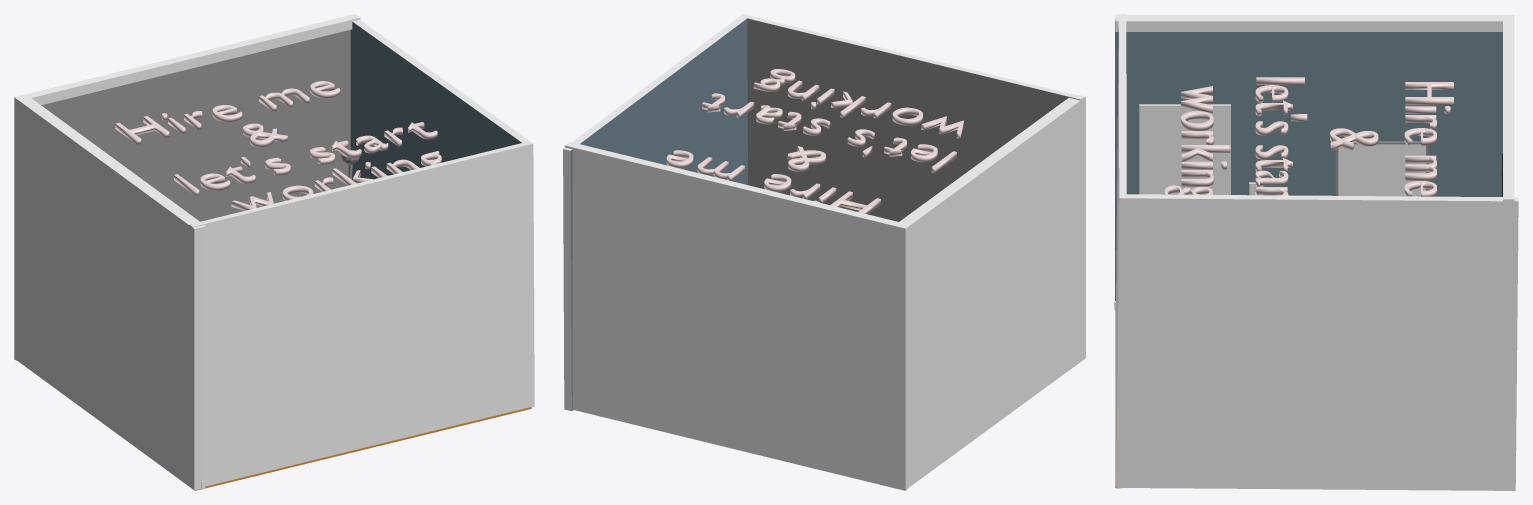
Rendered from myroom.obj.
The picture shows the model from 3 angles, left to right: view 1: azimuth 30°, elevation 25°; view 2: azimuth 150°, elevation 25°; view 3: azimuth 270°, elevation 25°; orthographic projection. The views are drawn at different scales.
Parts seen in each view (by area): view 1: group2134886970, group1987275120, Text, group609791403, group2124208635; view 2: group1987275120, group2134886970, Text, group609791403; view 3: group2134886970, group1987275120, Text, group609791403, group1871896990, group532662748.
Boxes of the visible parts, <box> form: group2134886970: <box>189,19,534,486</box>; group1987275120: <box>14,14,357,490</box>; Text: <box>115,81,441,210</box>; group609791403: <box>25,16,360,236</box>; group2124208635: <box>194,407,531,490</box>; group1987275120: <box>564,95,1085,490</box>; group2134886970: <box>563,14,1084,411</box>; Text: <box>666,69,963,214</box>; group609791403: <box>568,94,1077,224</box>; group2134886970: <box>1116,14,1518,490</box>; group1987275120: <box>1115,15,1514,489</box>; Text: <box>1164,77,1453,196</box>; group609791403: <box>1115,19,1507,209</box>; group1871896990: <box>1142,108,1227,194</box>; group532662748: <box>1335,141,1428,196</box>.
Bounding box in the file's own units: 4.04 × 2.99 × 3.75.
